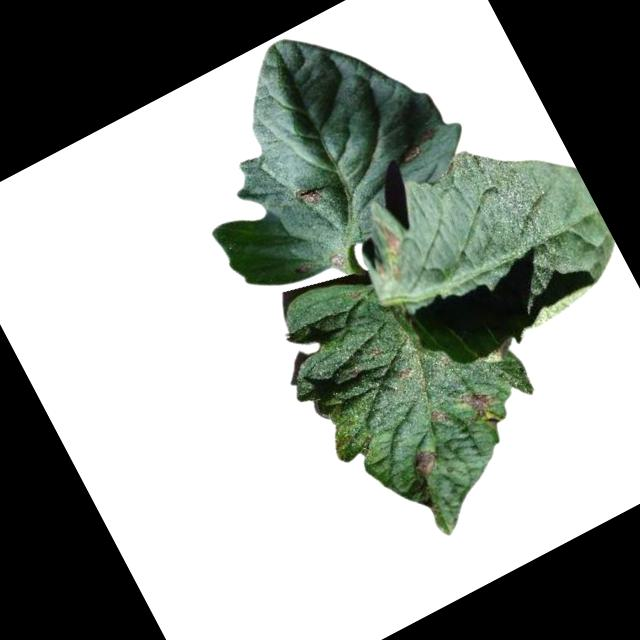Early_blight: (358, 220, 419, 288), (459, 379, 504, 425), (409, 446, 442, 479), (291, 179, 325, 210), (326, 248, 348, 271), (430, 405, 448, 424)
